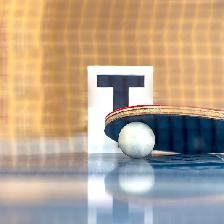WhiteBall: (118, 121, 155, 158)
